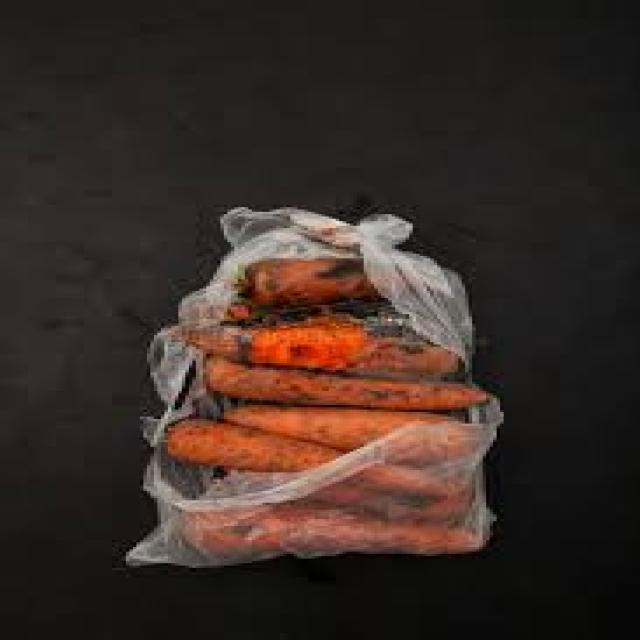Stale_Carrot: (147, 216, 488, 550)
